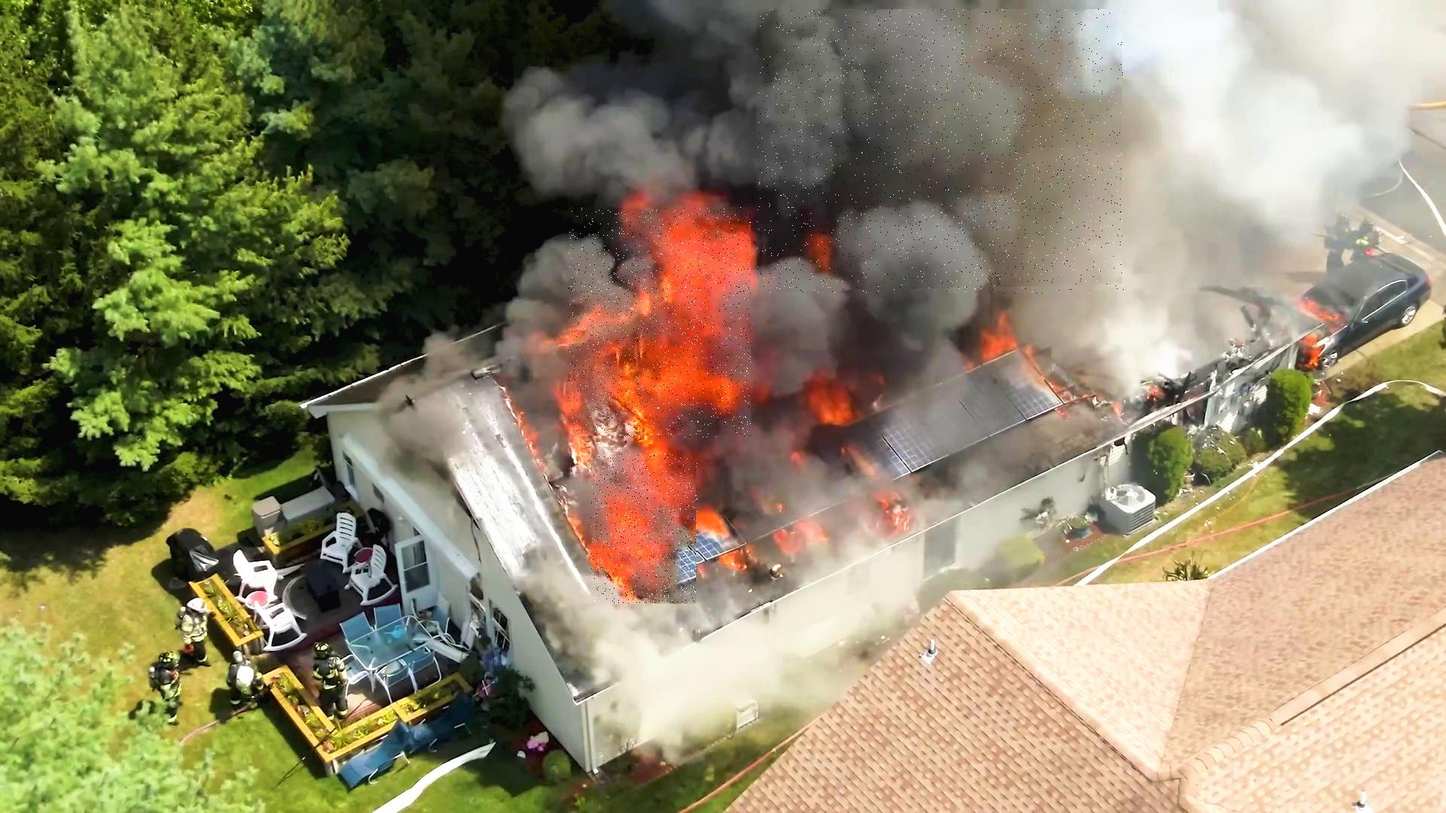fire: (569, 208, 751, 438), (592, 454, 698, 604)
smoke: (757, 10, 1124, 294)
